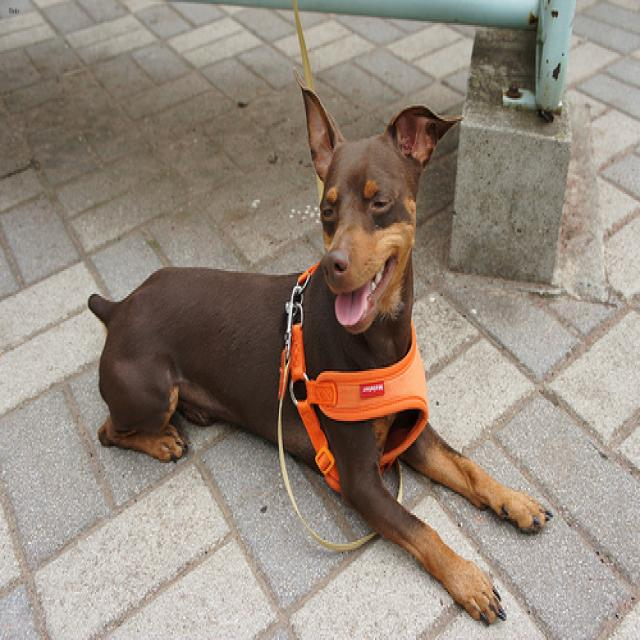dog-miniature_pinscher: (79, 58, 559, 634)
